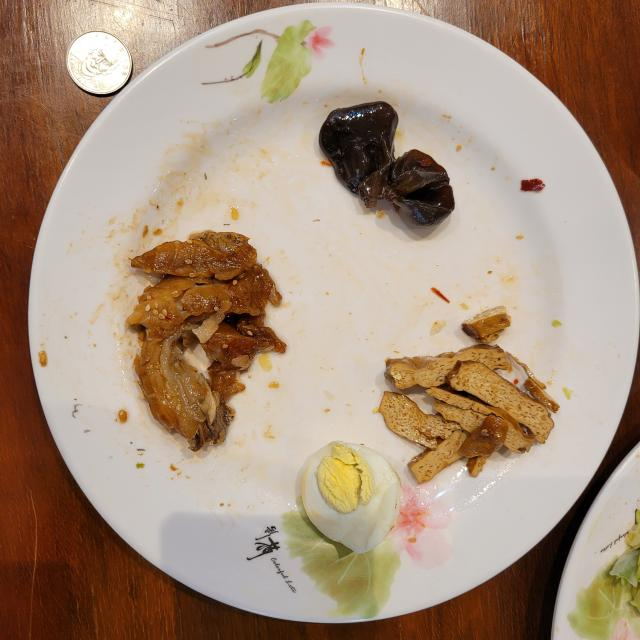Kabayaki sea bream fillet: (126, 231, 285, 451)
coin: (66, 31, 132, 95)
